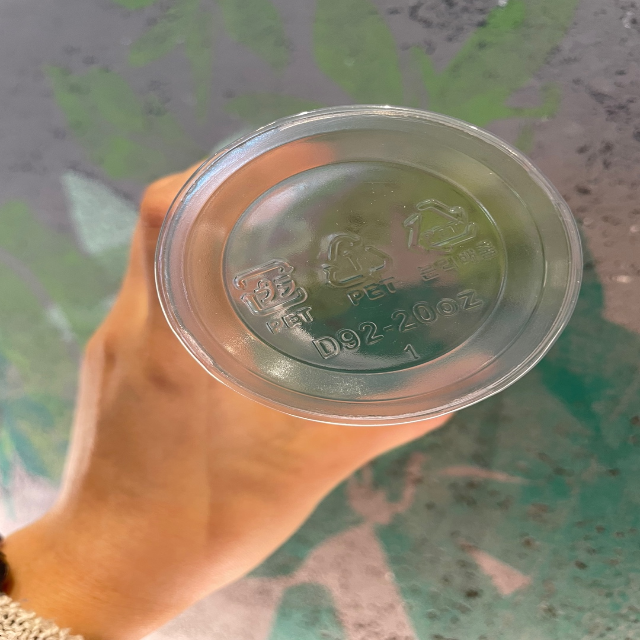pet: (404, 195, 500, 283), (226, 256, 322, 336), (320, 222, 409, 308)
